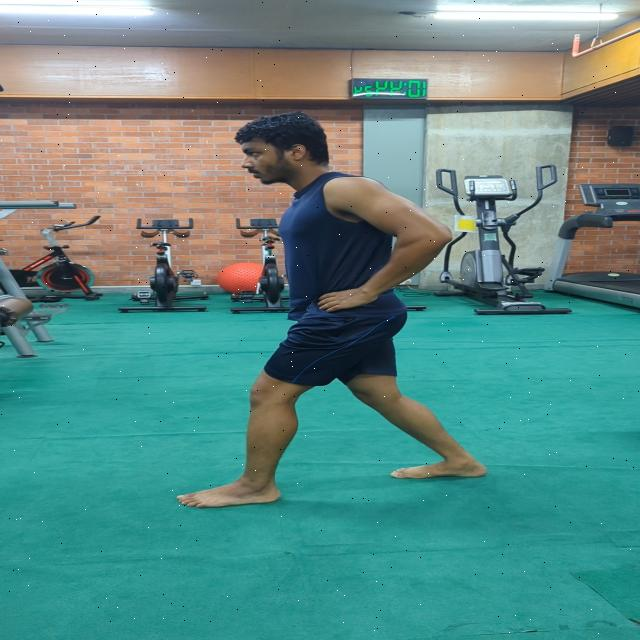Normal_Lunges: (160, 106, 497, 516)
